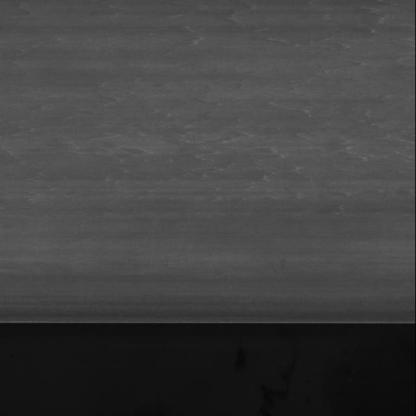silk_spot: (57, 74, 406, 191)
